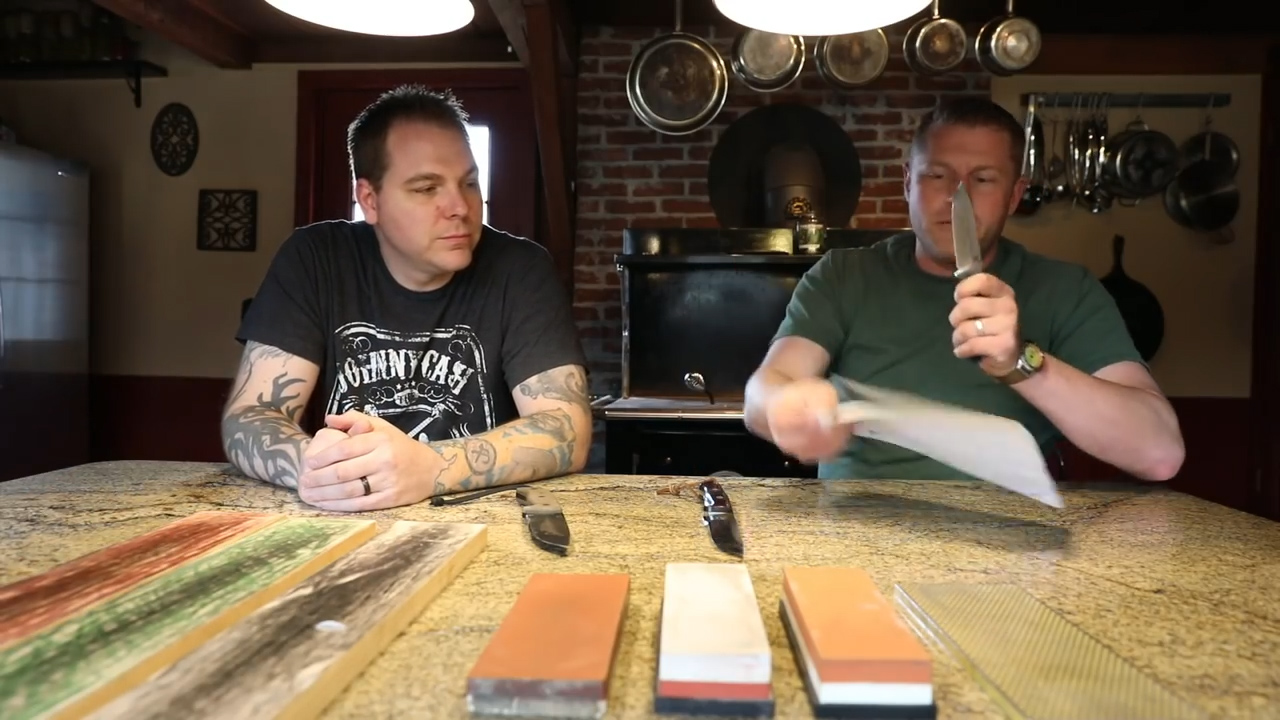knife: (945, 161, 1023, 354)
